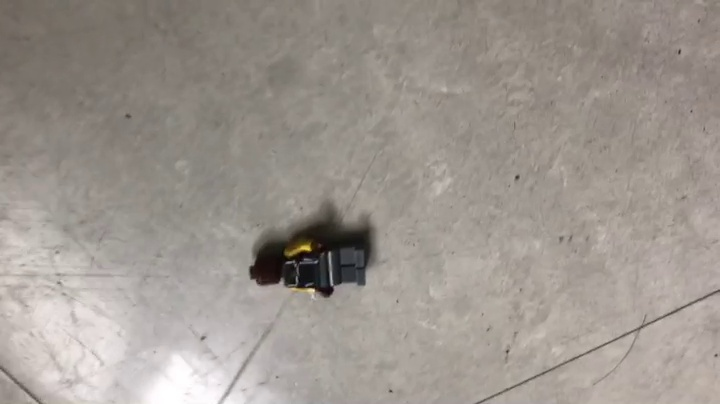people: (248, 235, 372, 301)
